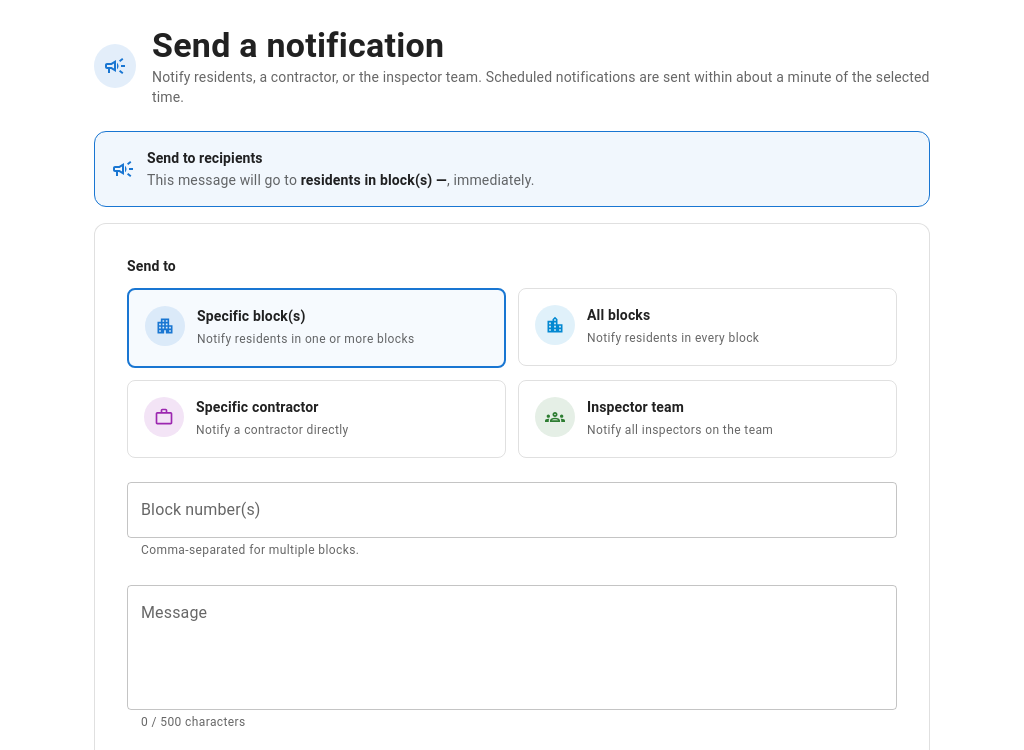
NotificationsPage manager composer — validation › the block scope needs at least one block
This screenshot has width=1024, height=750.
Type "Water shut off tomorrow." into the text box labelled "Message". click: (512,648)
box: [141,602,883,694]
(page scrolled)
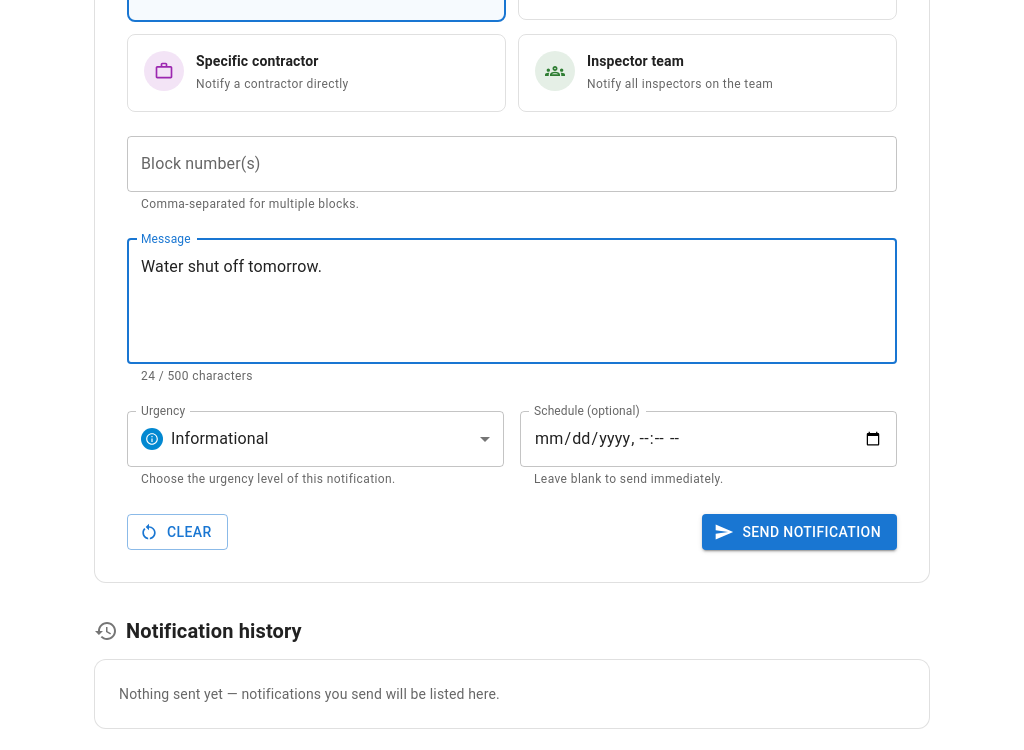
Click the button "Send notification". click: (800,532)
box: [702,514,897,550]
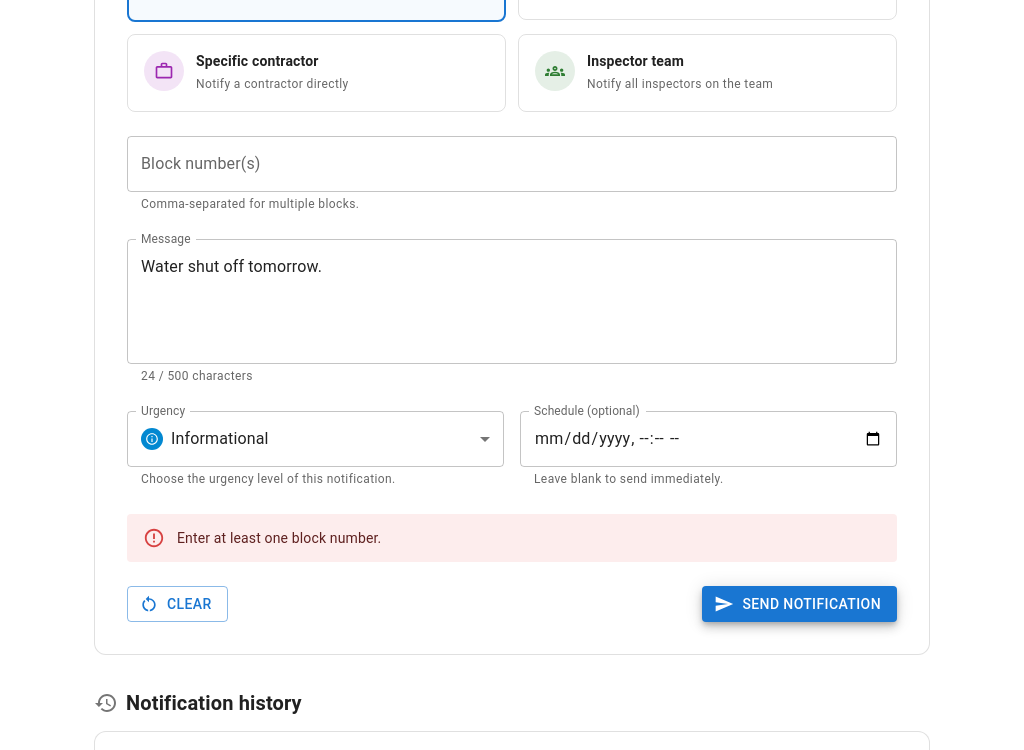
Expected: the text "Enter at least one block number." is shown, [177,530,382,546]
